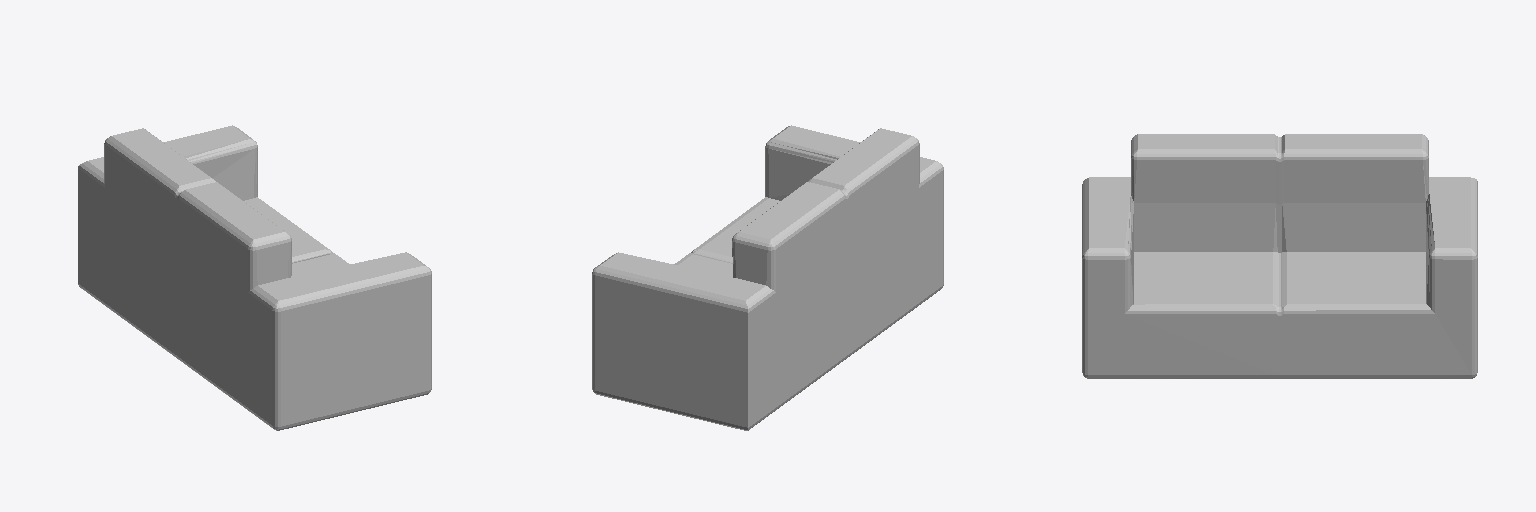
File: Couch.obj
The picture shows the model from 3 angles: view 1: azimuth 30°, elevation 25°; view 2: azimuth 150°, elevation 25°; view 3: azimuth 270°, elevation 25°; orthographic projection.
Parts seen in each view (by area): view 1: Couch_Cube.002; view 2: Couch_Cube.002; view 3: Couch_Cube.002.
Boxes of the visible parts, x1=… form: Couch_Cube.002: x1=78, y1=125, x2=431, y2=430; Couch_Cube.002: x1=592, y1=125, x2=943, y2=430; Couch_Cube.002: x1=1082, y1=134, x2=1477, y2=378.
Bounding box in the file's own units: 110 × 114 × 237.